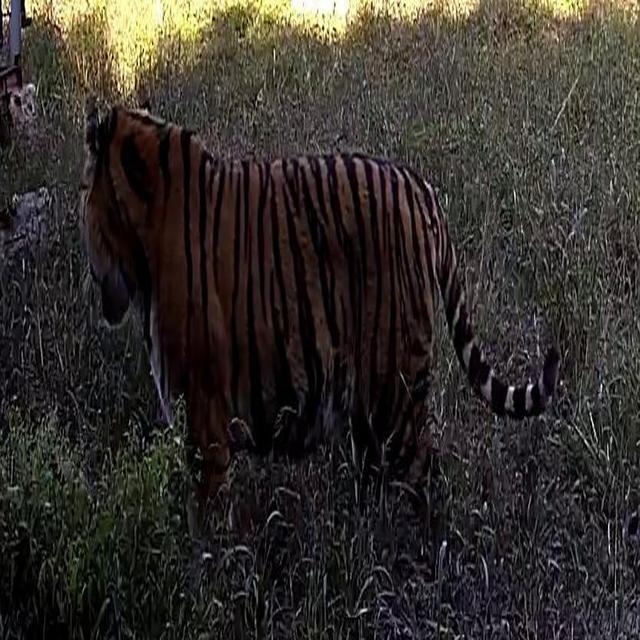tiger: (76, 102, 562, 533)
